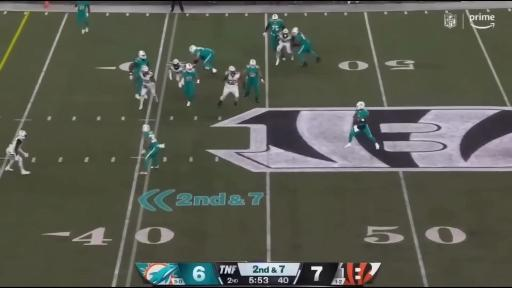Helmet: (227, 65, 237, 75), (141, 125, 152, 134), (356, 102, 366, 111), (170, 58, 179, 67), (185, 63, 193, 73), (271, 13, 279, 22), (188, 46, 198, 53), (293, 26, 299, 37), (18, 131, 26, 139), (250, 59, 257, 68), (141, 66, 148, 75), (281, 28, 289, 35), (139, 51, 146, 59)
Jersey: (355, 110, 369, 129), (7, 138, 22, 155), (268, 19, 283, 35), (134, 58, 149, 74), (144, 132, 158, 149), (182, 70, 196, 85), (194, 48, 213, 59), (246, 66, 259, 82), (225, 72, 239, 85), (170, 62, 185, 74), (295, 33, 310, 45), (141, 71, 153, 85), (77, 2, 89, 16), (279, 32, 291, 42)
Player: (344, 102, 379, 149), (140, 124, 164, 174), (292, 28, 320, 67), (5, 131, 30, 174), (129, 51, 149, 99), (242, 59, 264, 102), (218, 66, 240, 107), (264, 14, 285, 51), (139, 66, 157, 109), (181, 64, 199, 106), (190, 46, 216, 73), (276, 29, 293, 65), (75, 2, 90, 34), (169, 59, 185, 87)
